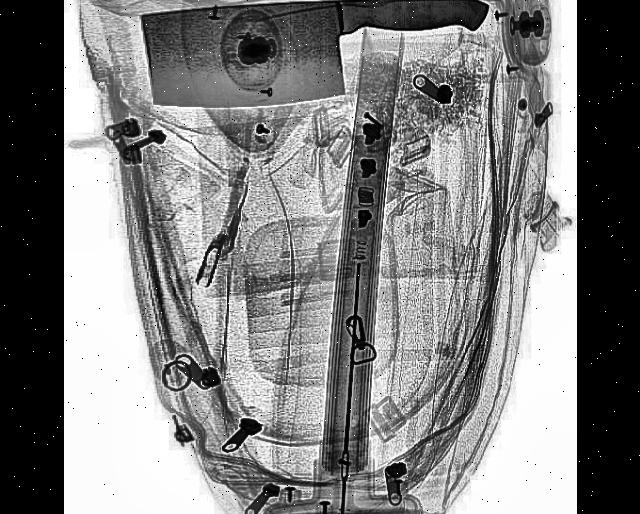Knife: (137, 0, 488, 112)
